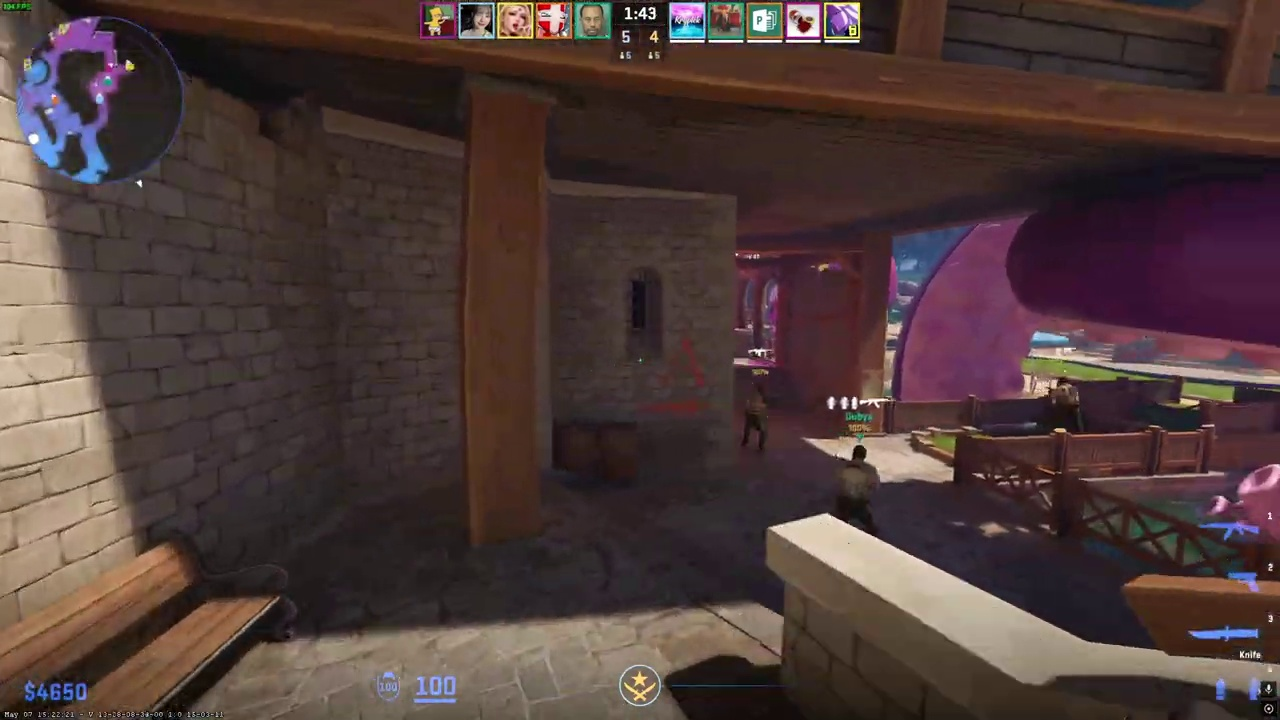Terrorist: (833, 445, 879, 534), (1047, 376, 1083, 434), (741, 386, 770, 453)
